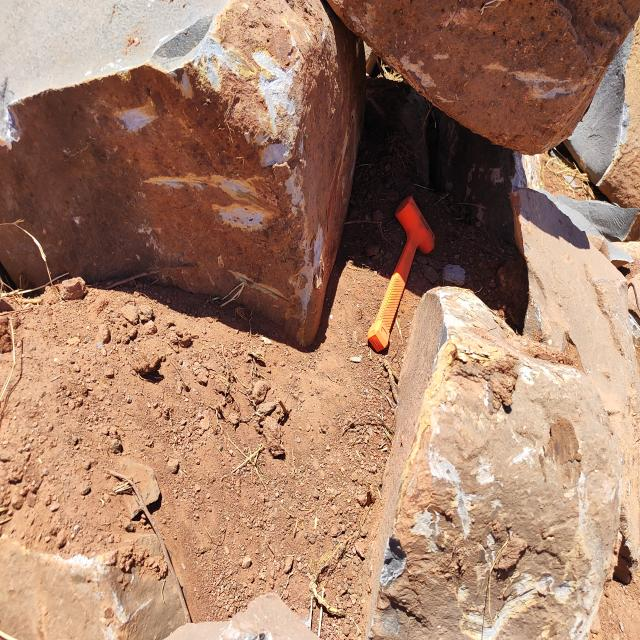Orange_hammer: (366, 195, 435, 353)
